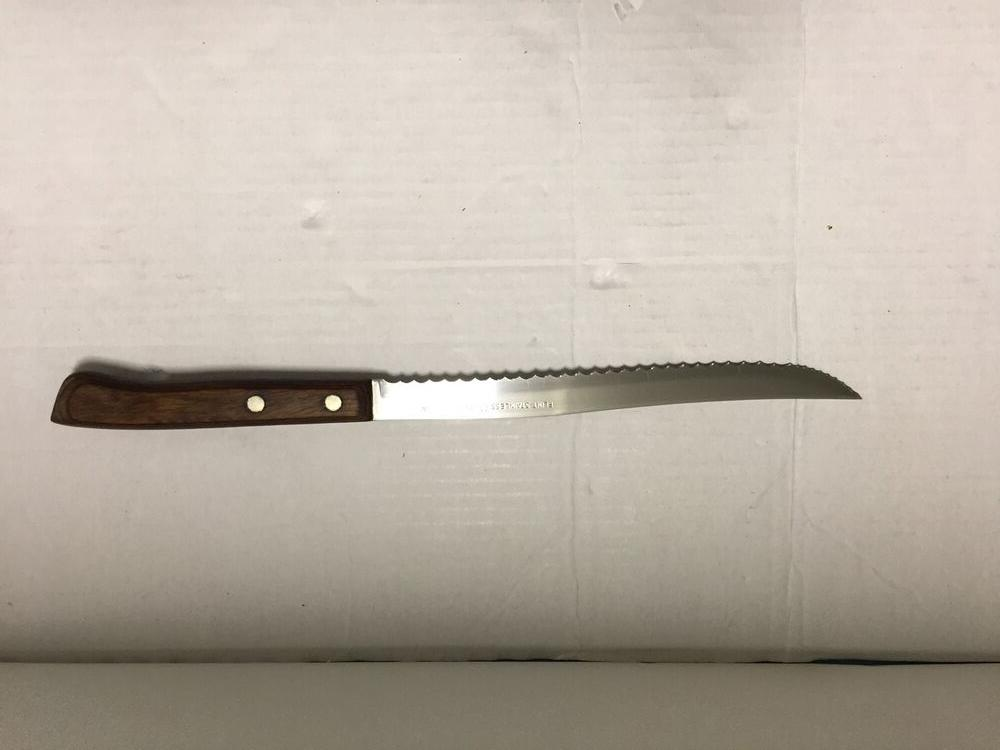knife: (52, 359, 865, 432)
